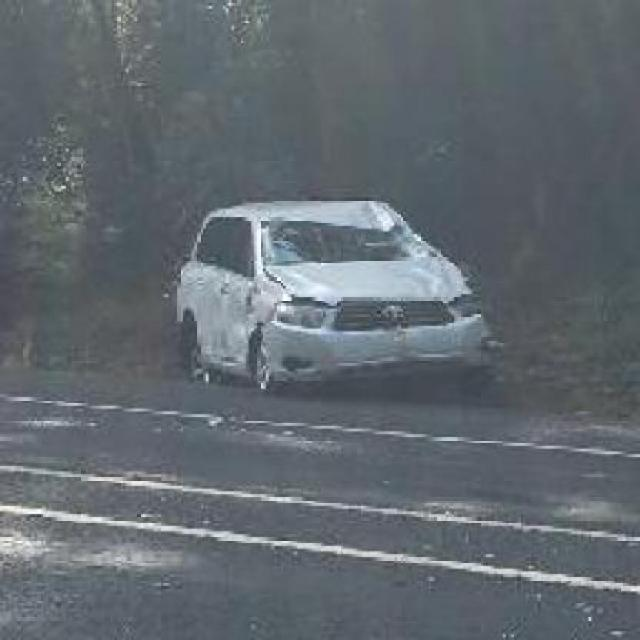damaged-windscreen: (255, 211, 438, 267)
